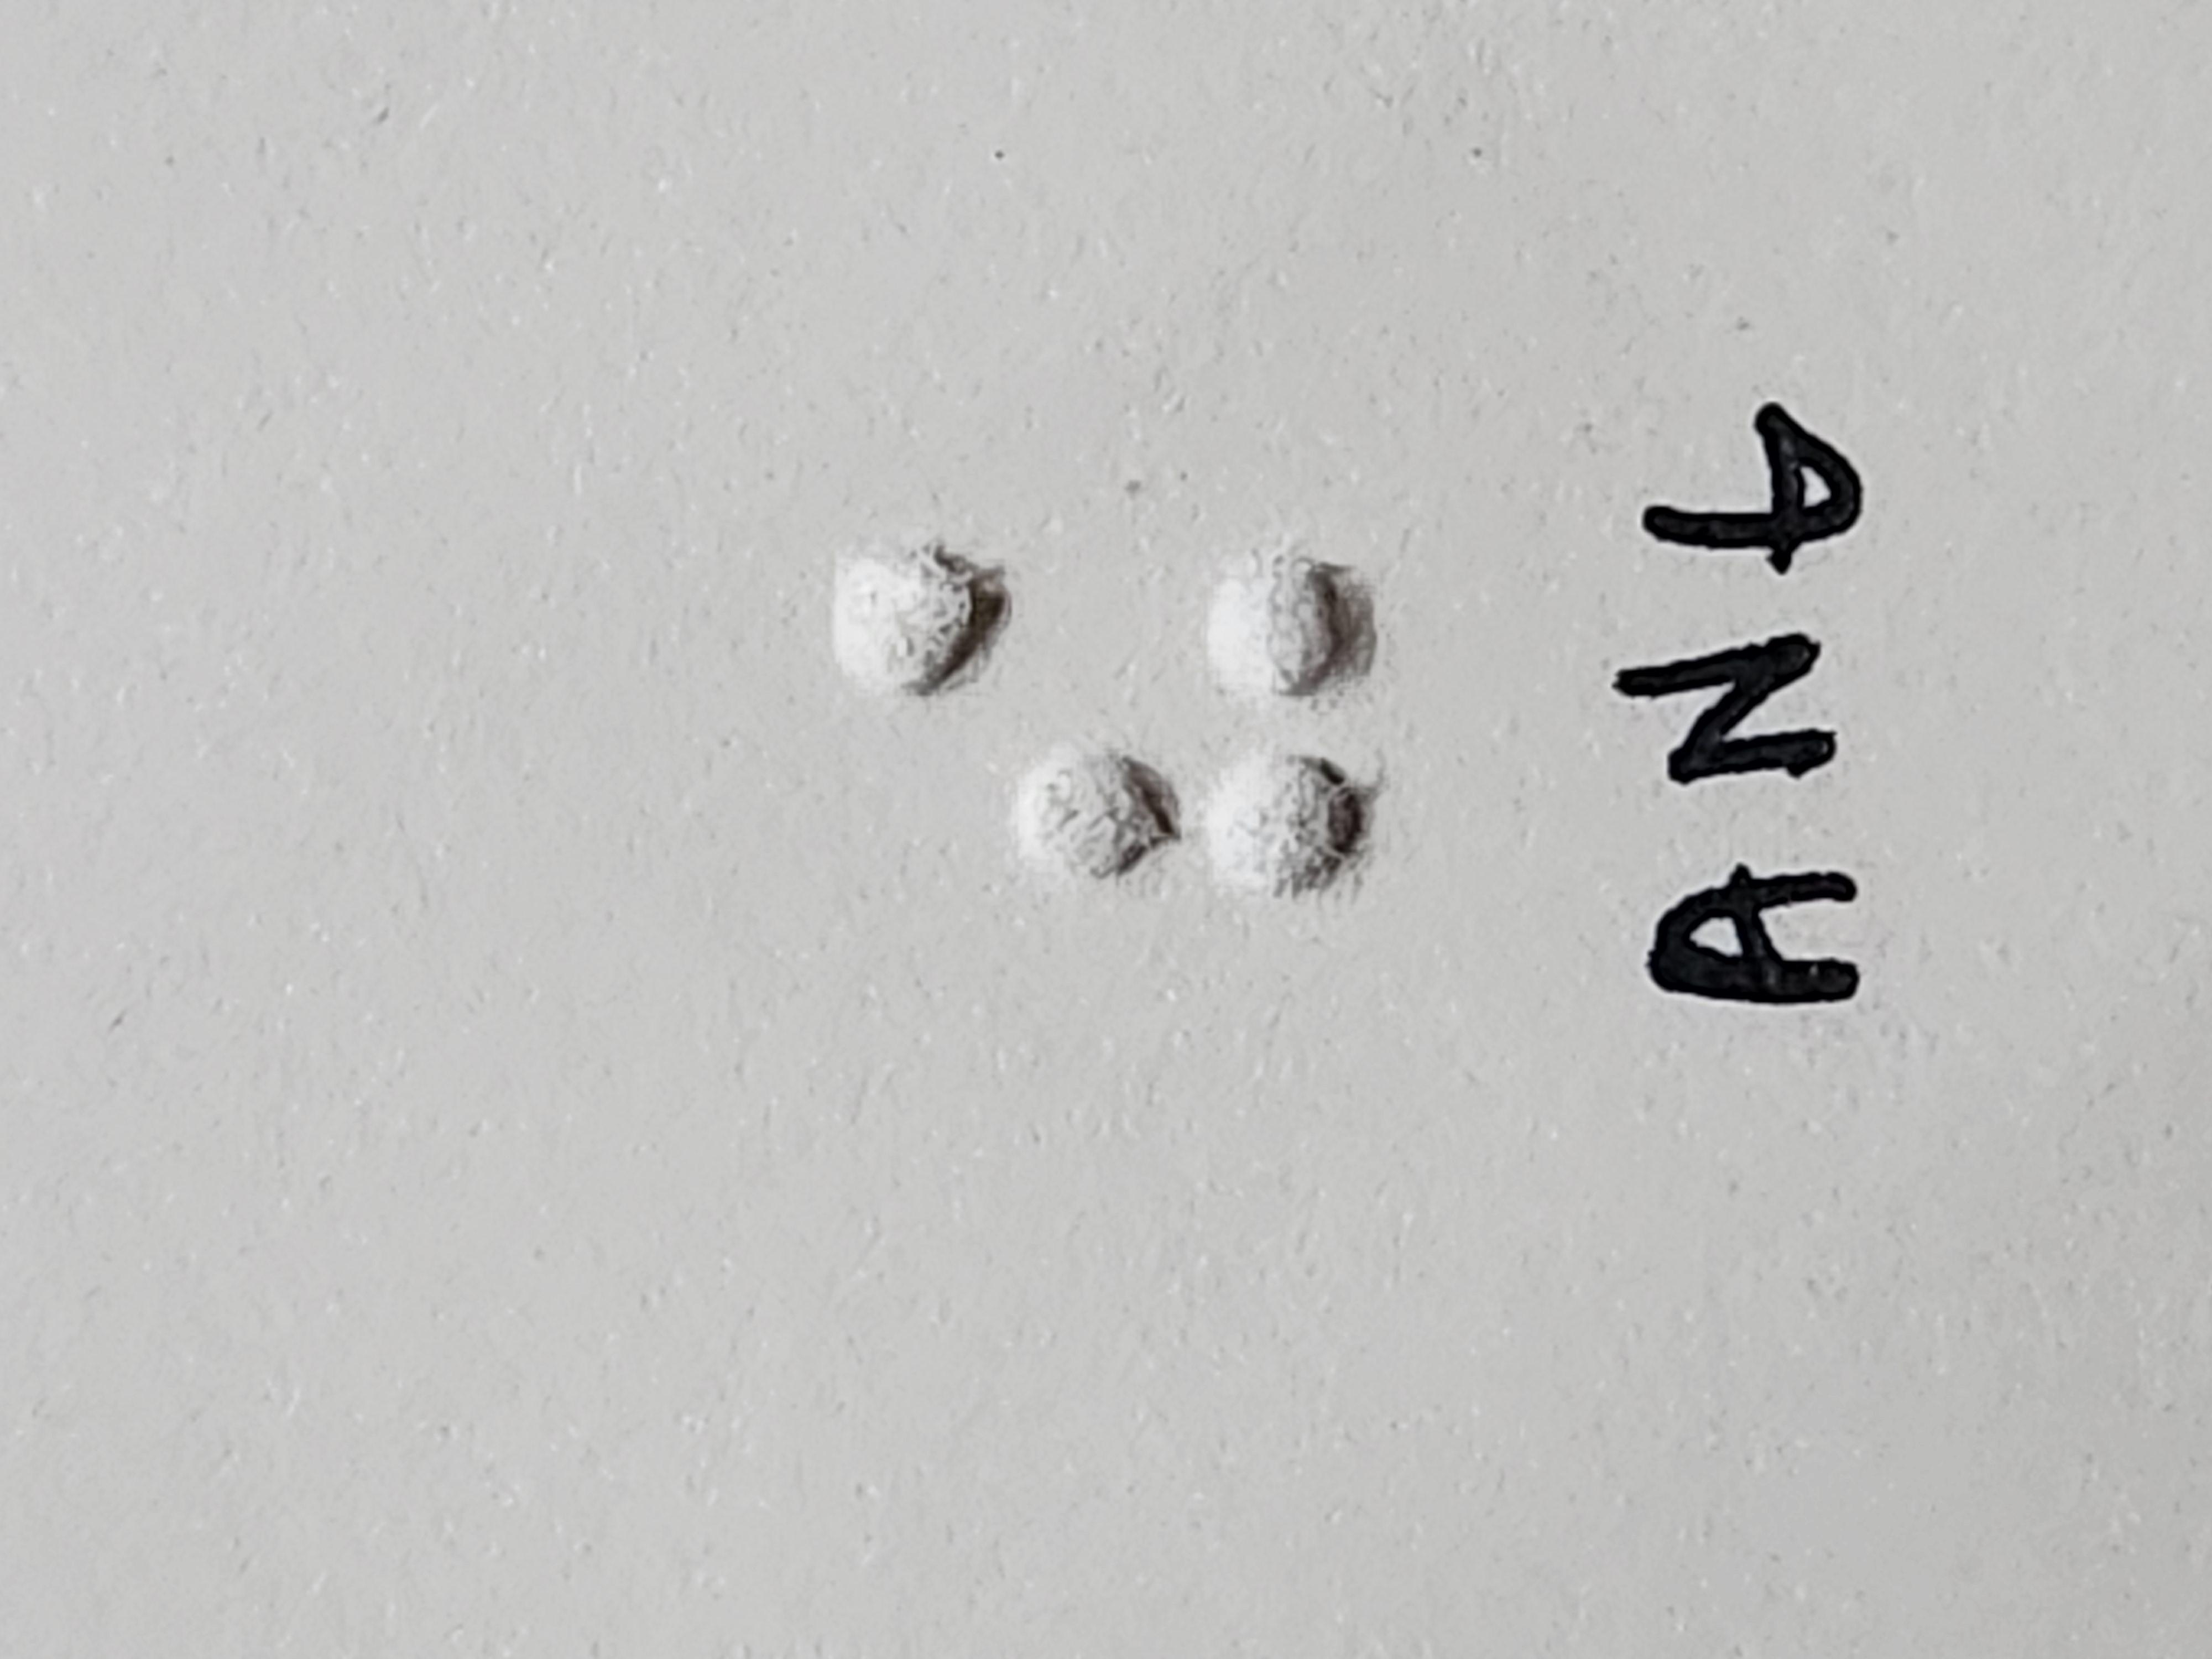one_cell_part_word_ang: (1019, 622, 1487, 1032)
